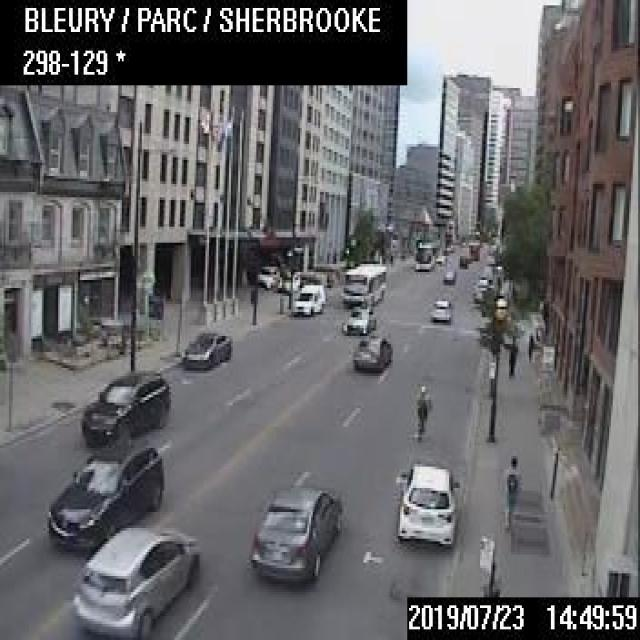bus: (341, 262, 384, 305), (413, 242, 434, 268)
cyclist: (413, 381, 429, 443)
pedestrian: (502, 453, 517, 528), (507, 335, 516, 375)
vehicle: (69, 522, 200, 638), (46, 443, 162, 551), (245, 484, 342, 581), (80, 368, 170, 445), (394, 459, 456, 544), (180, 328, 231, 368), (350, 332, 391, 370), (287, 277, 324, 315), (339, 304, 374, 332), (255, 263, 278, 285), (277, 269, 298, 292), (431, 296, 449, 320), (467, 240, 478, 258), (442, 267, 454, 282), (458, 252, 467, 266)
